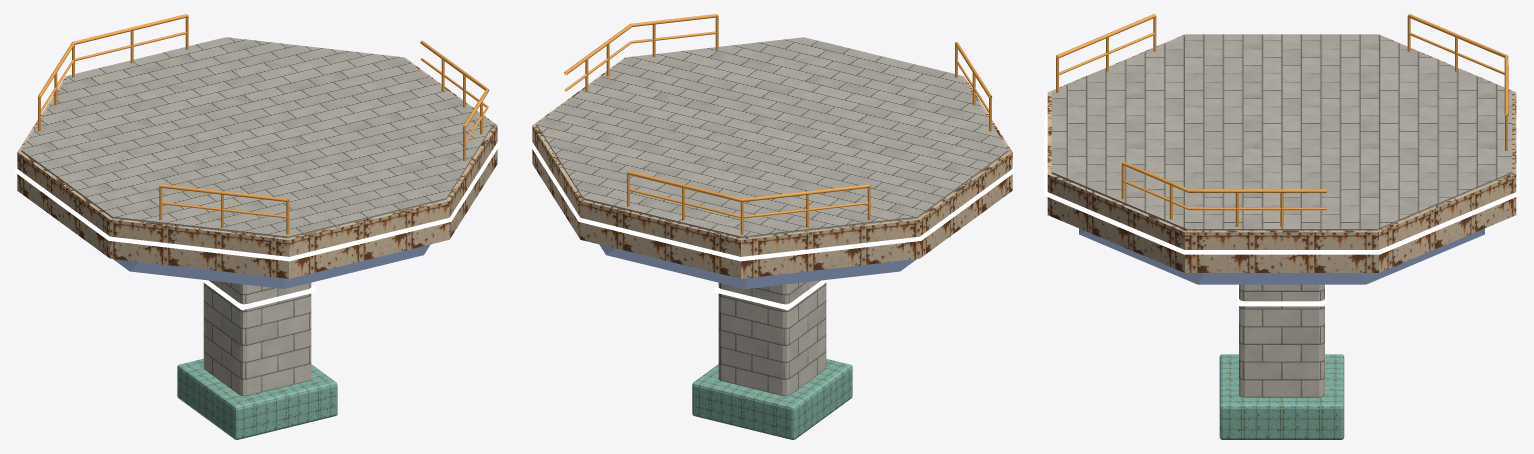
Rendered from HubA.glb.
3 views of the same model, side by side, from view 1: azimuth 30°, elevation 25°; view 2: azimuth 150°, elevation 25°; view 3: azimuth 270°, elevation 25° (orthographic). The views are drawn at different scales.
Parts seen in each view (by area): view 1: HubA_Top, HubA_Body, HubA_Under, HubA_ColBase, HubA_Glow; view 2: HubA_Top, HubA_Body, HubA_Under, HubA_ColBase, HubA_Glow; view 3: HubA_Top, HubA_Body, HubA_Under, HubA_ColBase, HubA_Glow.
Boxes of the visible parts, x1,y1,x2,y2 form: HubA_Top: (21, 37, 493, 396); HubA_Body: (17, 39, 497, 278); HubA_Under: (37, 14, 489, 288); HubA_ColBase: (177, 359, 337, 439); HubA_Glow: (14, 141, 500, 310); HubA_Top: (536, 37, 1008, 396); HubA_Body: (532, 38, 1012, 278); HubA_Under: (564, 14, 991, 288); HubA_ColBase: (692, 359, 852, 439); HubA_Glow: (529, 141, 1015, 310); HubA_Top: (1051, 34, 1512, 397); HubA_Body: (1047, 34, 1516, 272); HubA_Under: (1056, 14, 1508, 284); HubA_ColBase: (1219, 354, 1344, 439); HubA_Glow: (1044, 109, 1519, 306).
Size of the model in its own units: 12.18 by 9.05 by 12.18.
5 materials, 3 textured.
